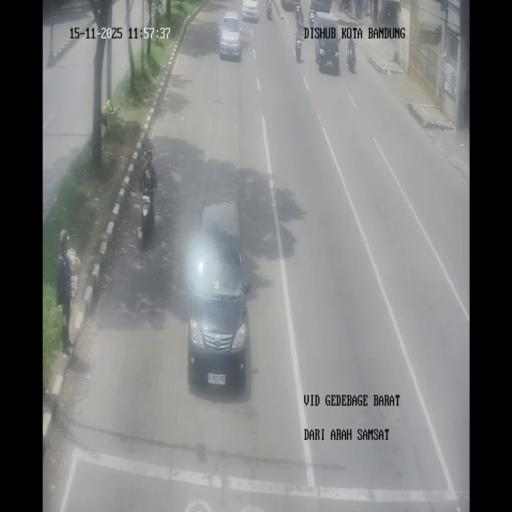car: (185, 196, 251, 388), (313, 12, 341, 73), (218, 10, 242, 61), (242, 0, 258, 22)
motorcycle: (140, 187, 154, 244), (294, 25, 303, 61), (346, 44, 356, 72), (294, 2, 303, 24), (308, 5, 316, 28), (338, 0, 352, 13), (265, 0, 272, 19), (362, 0, 369, 17), (378, 7, 383, 23)
